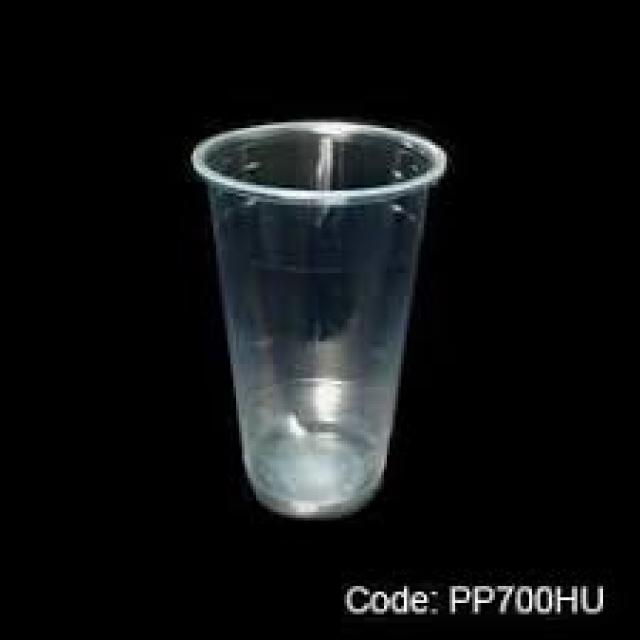plastic: (192, 121, 446, 518)
